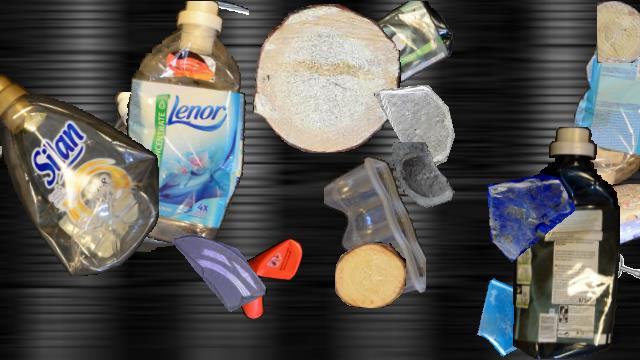glass: (172, 226, 266, 320), (481, 172, 575, 266), (473, 269, 563, 359), (374, 85, 458, 169), (387, 142, 465, 220)
metal: (186, 1, 248, 63), (602, 252, 640, 300)
plastic: (108, 1, 248, 251), (0, 66, 158, 276), (512, 127, 620, 359), (101, 92, 235, 252), (299, 1, 455, 103), (324, 157, 426, 299), (574, 35, 640, 209), (229, 239, 303, 319), (570, 184, 640, 254), (0, 83, 11, 171)
wood: (252, 4, 400, 152), (335, 242, 405, 308), (597, 1, 640, 63)
